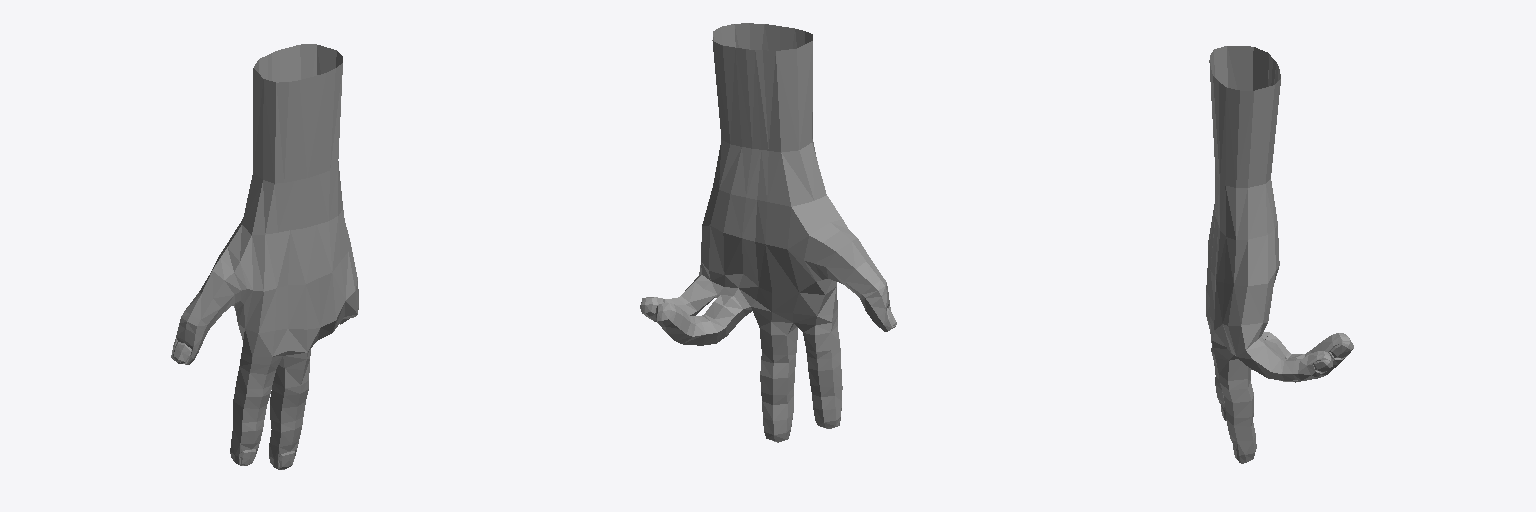
File: handAnimated4_000011.obj
3 views of the same model, side by side, from view 1: azimuth 30°, elevation 25°; view 2: azimuth 150°, elevation 25°; view 3: azimuth 270°, elevation 25° (orthographic).
Visible parts, largest first — view 1: Cube.000_Cube.017_Detached_Detached; view 2: Cube.000_Cube.017_Detached_Detached; view 3: Cube.000_Cube.017_Detached_Detached.
Part boxes in pixels (bbox=[...]): Cube.000_Cube.017_Detached_Detached: bbox=[171, 44, 358, 469]; Cube.000_Cube.017_Detached_Detached: bbox=[640, 23, 896, 442]; Cube.000_Cube.017_Detached_Detached: bbox=[1206, 46, 1353, 463].
Bounding box in the file's own units: 0.7304 × 1.34 × 0.4468.